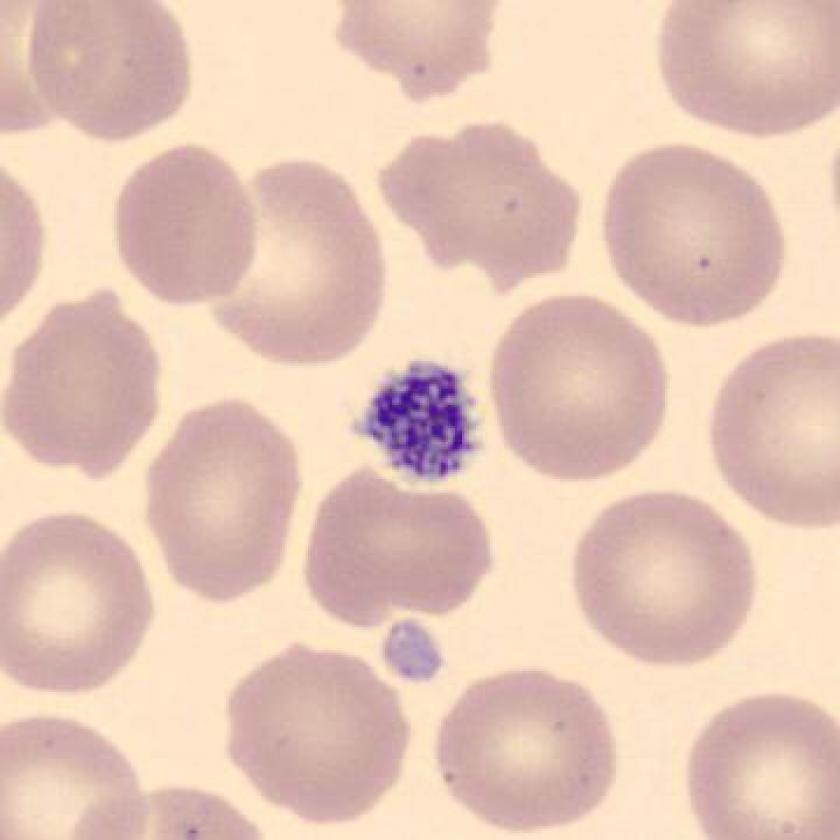platelets: (344, 350, 496, 494)
